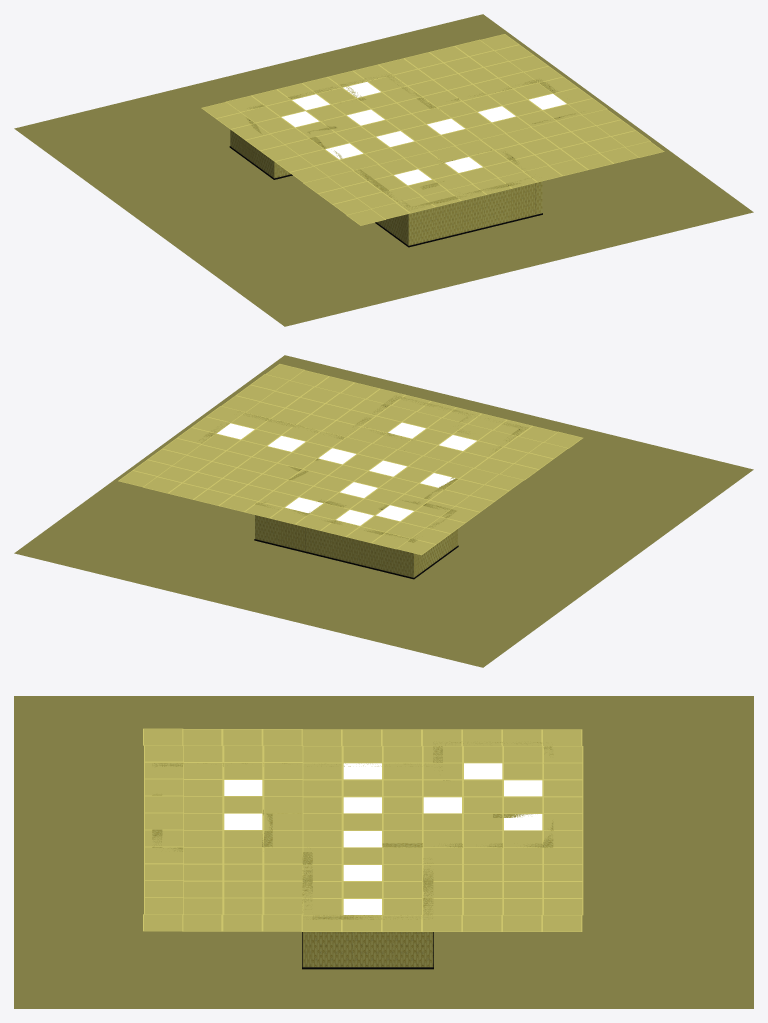
File: backrooms.glb
The picture shows the model from 3 angles, top to bottom: view 1: azimuth 30°, elevation 25°; view 2: azimuth 150°, elevation 25°; view 3: azimuth 270°, elevation 25°; orthographic projection. The views are drawn at different scales.
Visible parts, largest first — view 1: Plane-col, Cube.008-col, Cube.009-col, Cube.011-col, Cube.010-col, Cube.012-col; view 2: Plane-col, Cube.041-col, Cube.042-col, Cube.035-col, Cube.040-col, Cube.034-col, Cube.036-col, Cube.037-col; view 3: Plane-col, Cube.044-col, Cube.045-col, Cube.043-col, Plane.034-col, Plane.035-col, Plane.037-col, Plane.038-col, Plane.044-col, Plane.045-col, Plane.046-col, Plane.047-col (+124 smaller).
Part boxes in pixels (x1,y1,x2,y2): Plane-col: [14, 14, 753, 326]; Cube.008-col: [405, 202, 434, 247]; Cube.009-col: [431, 196, 460, 240]; Cube.011-col: [482, 183, 510, 228]; Cube.010-col: [457, 190, 485, 234]; Cube.012-col: [507, 177, 535, 222]; Plane-col: [14, 355, 753, 667]; Cube.041-col: [356, 529, 384, 571]; Cube.042-col: [381, 532, 410, 577]; Cube.035-col: [279, 508, 308, 552]; Cube.040-col: [330, 520, 356, 565]; Cube.034-col: [254, 502, 280, 546]; Cube.036-col: [305, 519, 333, 558]; Cube.037-col: [407, 536, 429, 579]; Plane-col: [14, 696, 753, 1008]; Cube.044-col: [312, 915, 353, 969]; Cube.045-col: [352, 915, 393, 969]; Cube.043-col: [393, 915, 433, 969]; Plane.034-col: [382, 796, 422, 813]; Plane.035-col: [382, 813, 422, 830]; Plane.037-col: [382, 847, 422, 864]; Plane.038-col: [382, 864, 422, 881]; Plane.044-col: [342, 796, 382, 813]; Plane.045-col: [342, 813, 382, 830]; Plane.046-col: [342, 830, 382, 847]; Plane.047-col: [342, 847, 382, 864].
Size of the model in its own units: 36.91 by 2.73 by 36.91.
6 materials, 1 textured.
